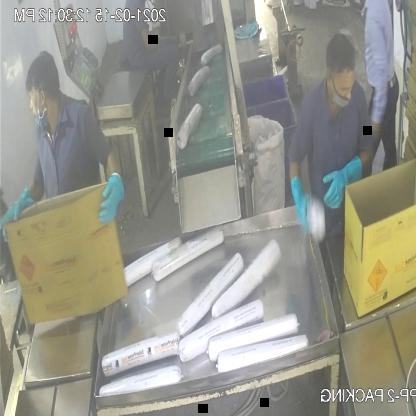glove: (0, 169, 53, 241), (322, 147, 372, 212), (92, 154, 132, 234), (286, 148, 316, 239)
no_glove: (365, 14, 391, 142), (137, 15, 173, 56)
